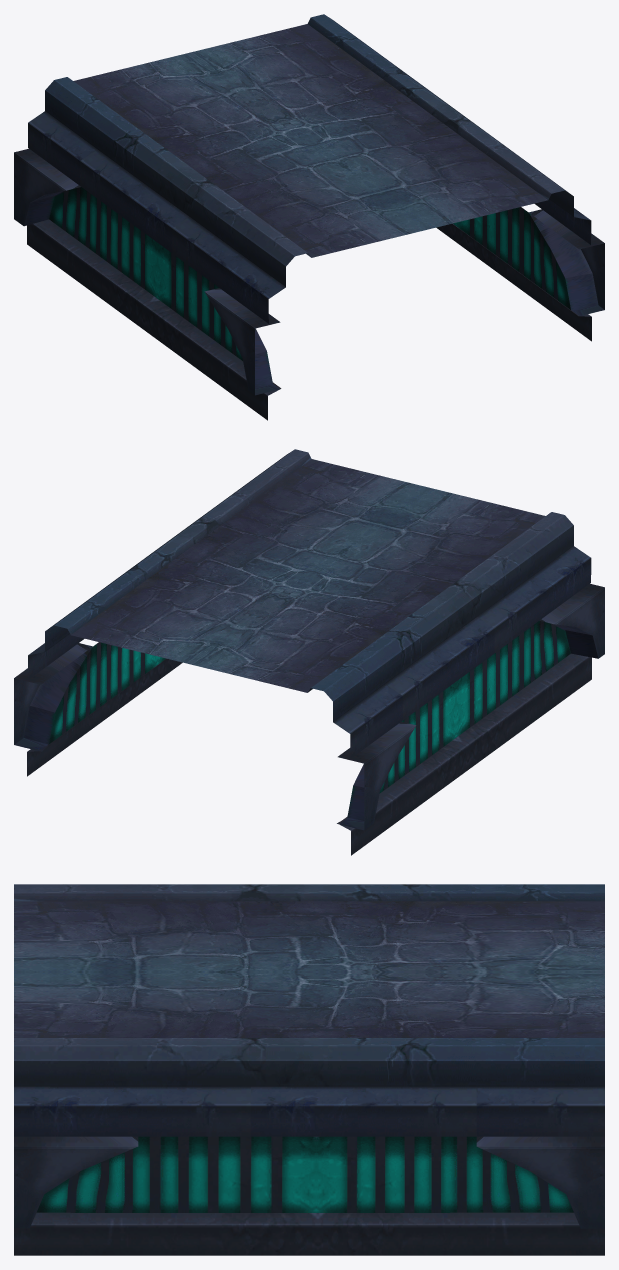
File: 10109_boss14.FBX
The picture shows the model from 3 angles, top to bottom: view 1: azimuth 30°, elevation 25°; view 2: azimuth 150°, elevation 25°; view 3: azimuth 270°, elevation 25°; orthographic projection. The views are drawn at different scales.
Parts seen in each view (by area): view 1: 10109_boss14; view 2: 10109_boss14; view 3: 10109_boss14.
Boxes of the visible parts, x1,y1,x2,y2 form: 10109_boss14: (14,14,604,420); 10109_boss14: (14,449,604,855); 10109_boss14: (14,884,604,1255).
Size of the model in its own units: 1681 by 724 by 2002.
